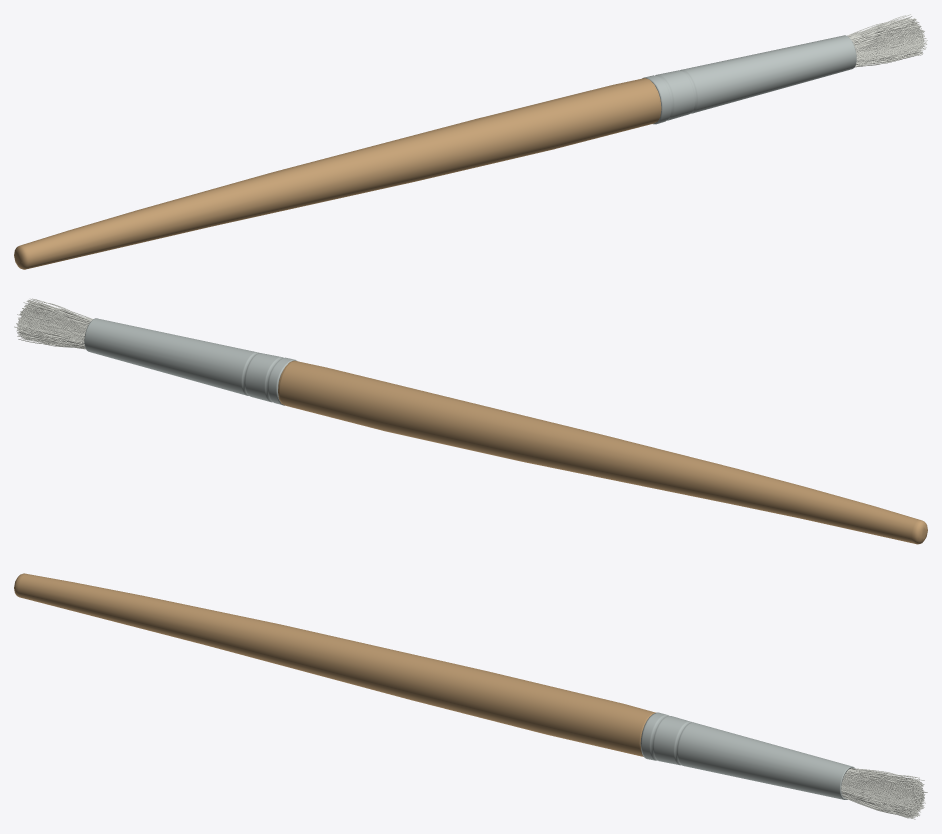
The model's file is paint_supplies_brush_a09.glb.
3 renders of one model, top to bottom at view 1: azimuth 30°, elevation 25°; view 2: azimuth 150°, elevation 25°; view 3: azimuth 330°, elevation 25°, orthographic.
Bounding box in the file's own units: 0.1856 × 0.0087 × 0.00871.
